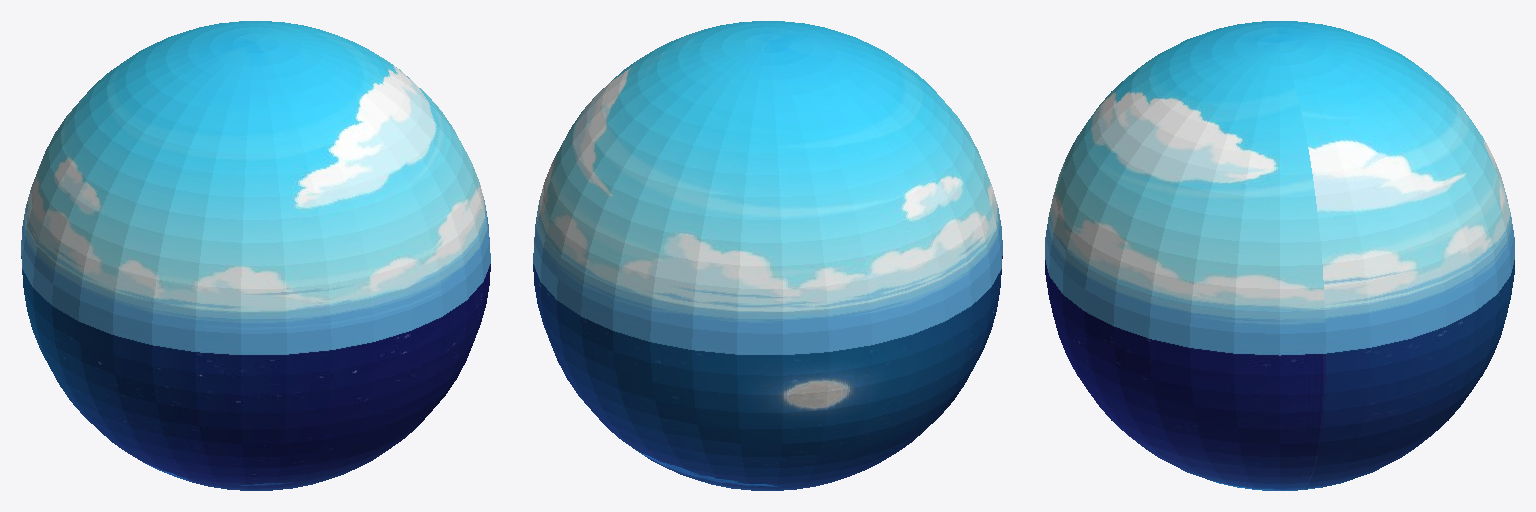
3 renders of one model, left to right at view 1: azimuth 30°, elevation 25°; view 2: azimuth 150°, elevation 25°; view 3: azimuth 270°, elevation 25°, orthographic.
Parts seen in each view (by area): view 1: pSphere1; view 2: pSphere1; view 3: pSphere1.
Part boxes in pixels (bbox=[...]): pSphere1: bbox=[21, 21, 490, 490]; pSphere1: bbox=[533, 21, 1002, 490]; pSphere1: bbox=[1045, 21, 1514, 490].
Size of the model in its own units: 100 by 100 by 100.
Materials: 1 (1 with a texture image).